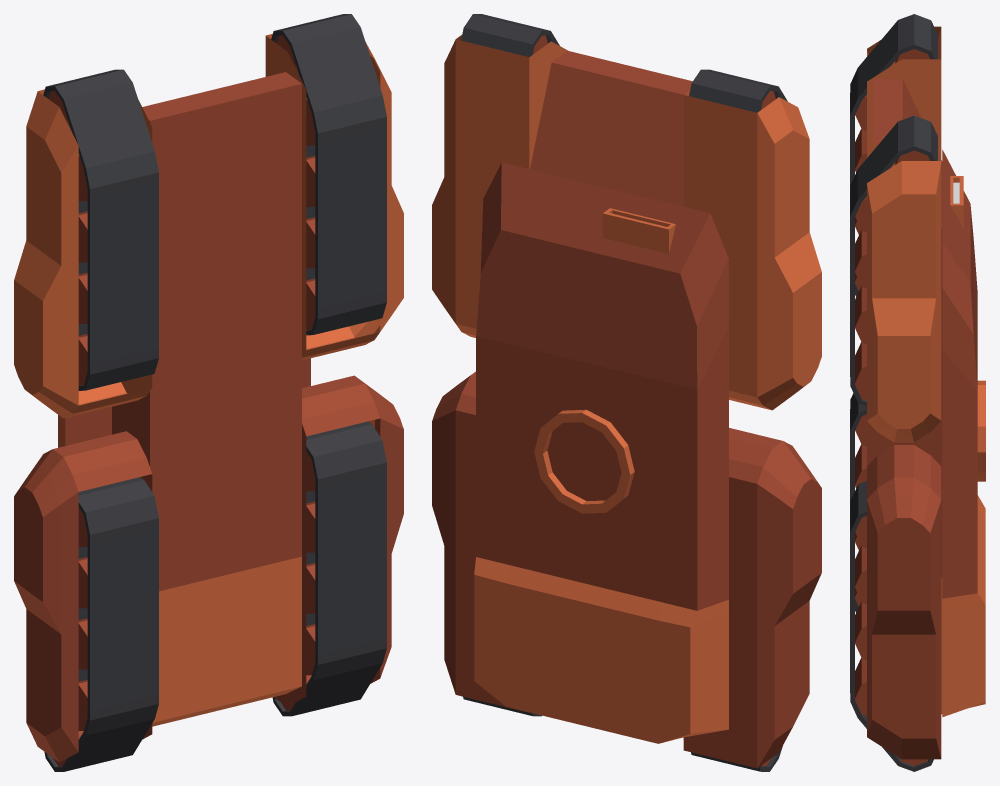
Rendered from tarakan (1).fbx.
The picture shows the model from 3 angles, left to right: view 1: azimuth 30°, elevation 25°; view 2: azimuth 150°, elevation 25°; view 3: azimuth 270°, elevation 25°; orthographic projection. The views are drawn at different scales.
Visible parts, largest first — view 1: hull, Plane; view 2: hull, Plane; view 3: hull, Plane, Cylinder.010, Cylinder.009, Cylinder.011, Cylinder.018, Cylinder.016, Cylinder.017, Cylinder.022, Cylinder.013, Cylinder.003, Cylinder.006 (+4 smaller).
Part boxes in pixels (box(x1,y1,x2,y2)): hull: box(14, 34, 403, 762); Plane: box(43, 14, 386, 771); hull: box(432, 35, 821, 768); Plane: box(461, 14, 787, 771); hull: box(867, 26, 985, 759); Plane: box(850, 14, 937, 771); Cylinder.010: box(855, 286, 866, 344); Cylinder.009: box(855, 230, 866, 288); Cylinder.011: box(855, 342, 866, 400); Cylinder.018: box(855, 546, 866, 604); Cylinder.016: box(855, 658, 866, 716); Cylinder.017: box(855, 602, 866, 660); Cylinder.022: box(855, 444, 866, 488); Cylinder.013: box(855, 129, 866, 172); Cylinder.003: box(855, 196, 866, 232); Cylinder.006: box(895, 49, 929, 63).
Size of the model in its own units: 229 by 415 by 81.54.
